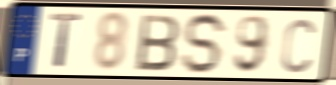8: (92, 10, 131, 75)
9: (233, 14, 271, 75)
B: (135, 12, 182, 73)
C: (279, 16, 317, 75)
S: (180, 11, 231, 76)
T: (49, 11, 84, 71)
